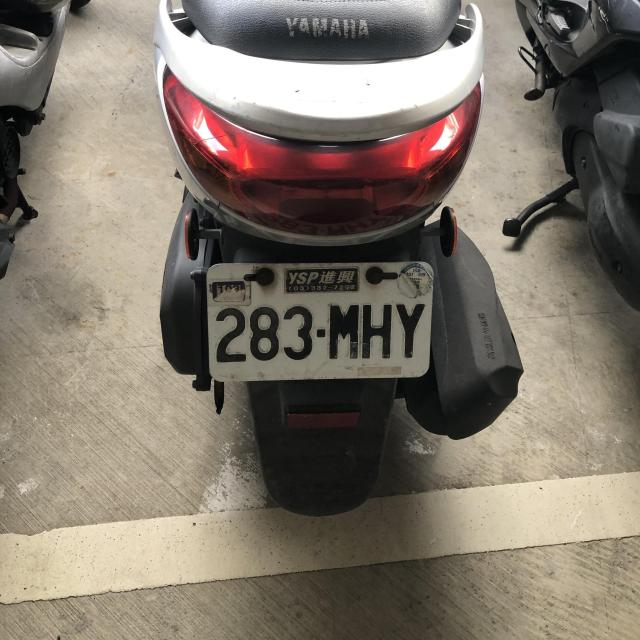W: (204, 259, 433, 381)
